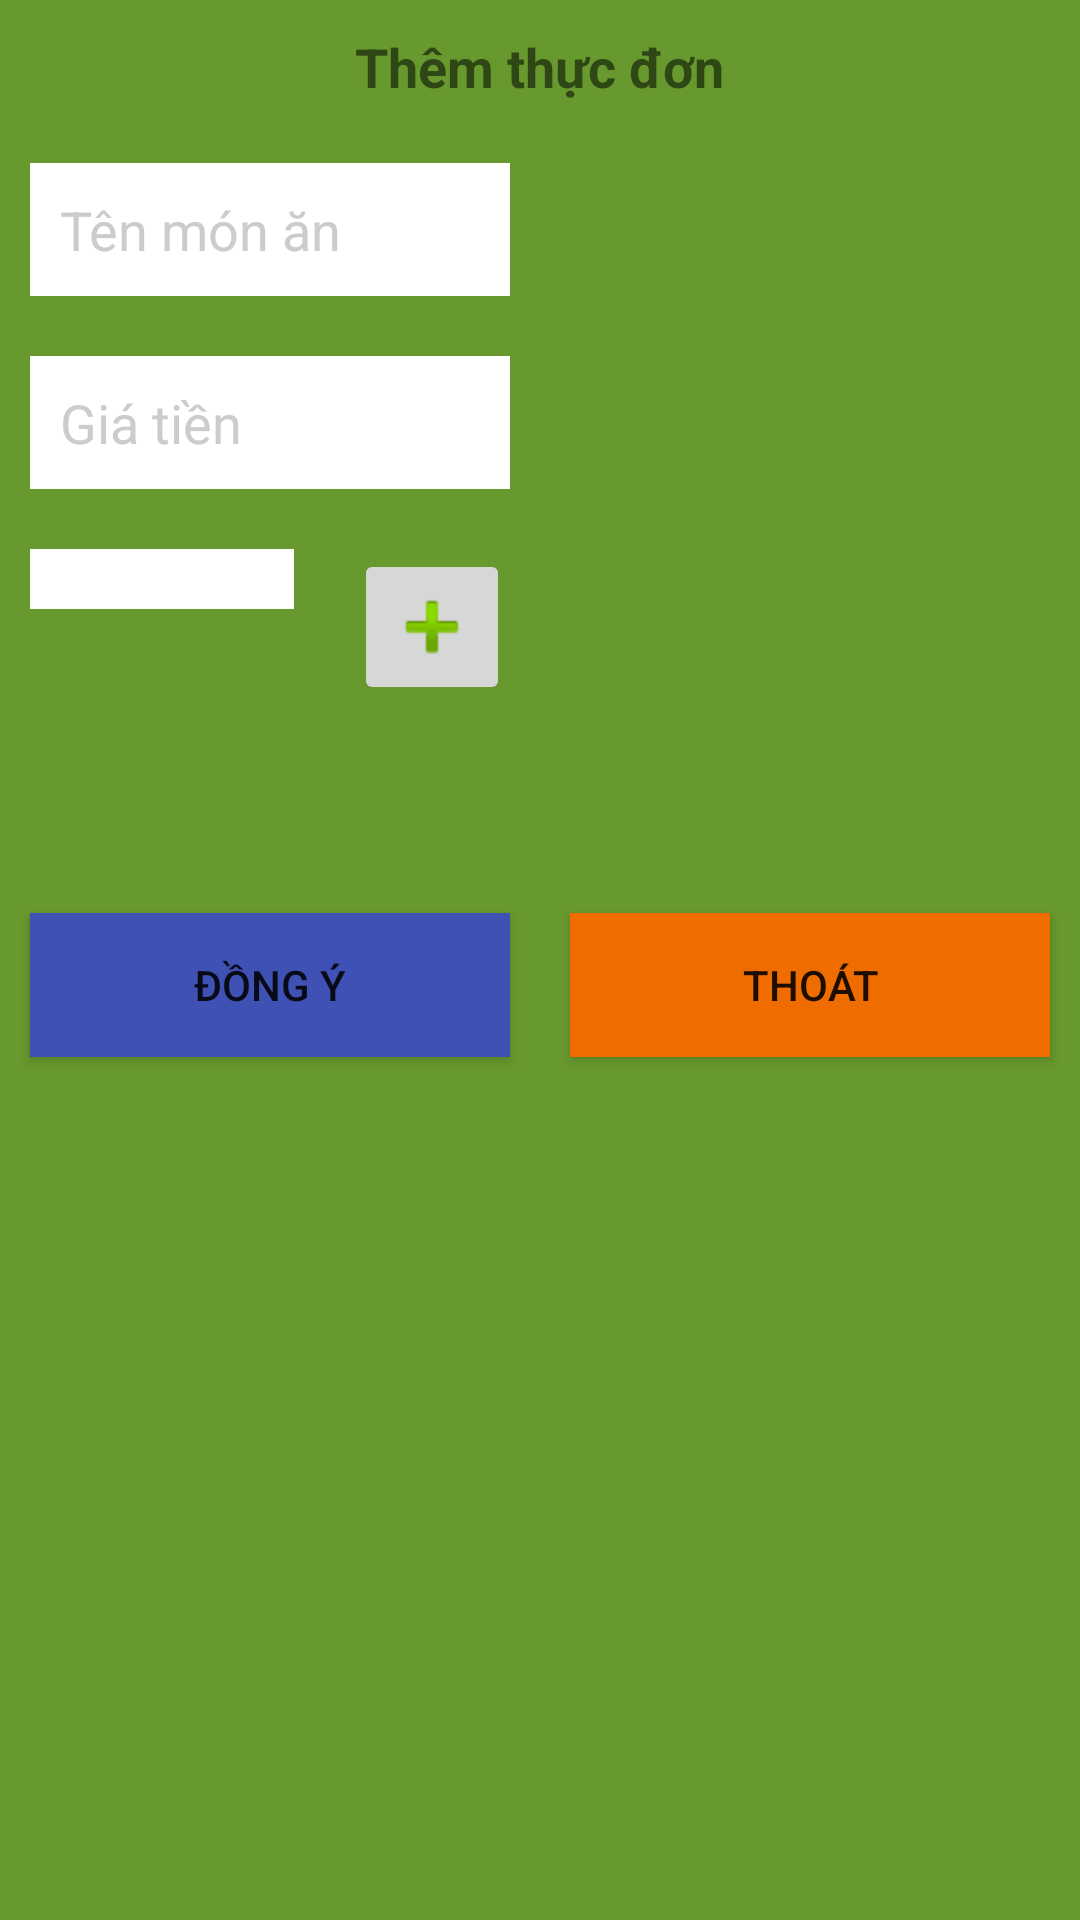

Locate icon controls on the screen. Image size 1080w x 1920h, boxes as (x1, y1, x2, y2).
add: (366, 567, 498, 687)
